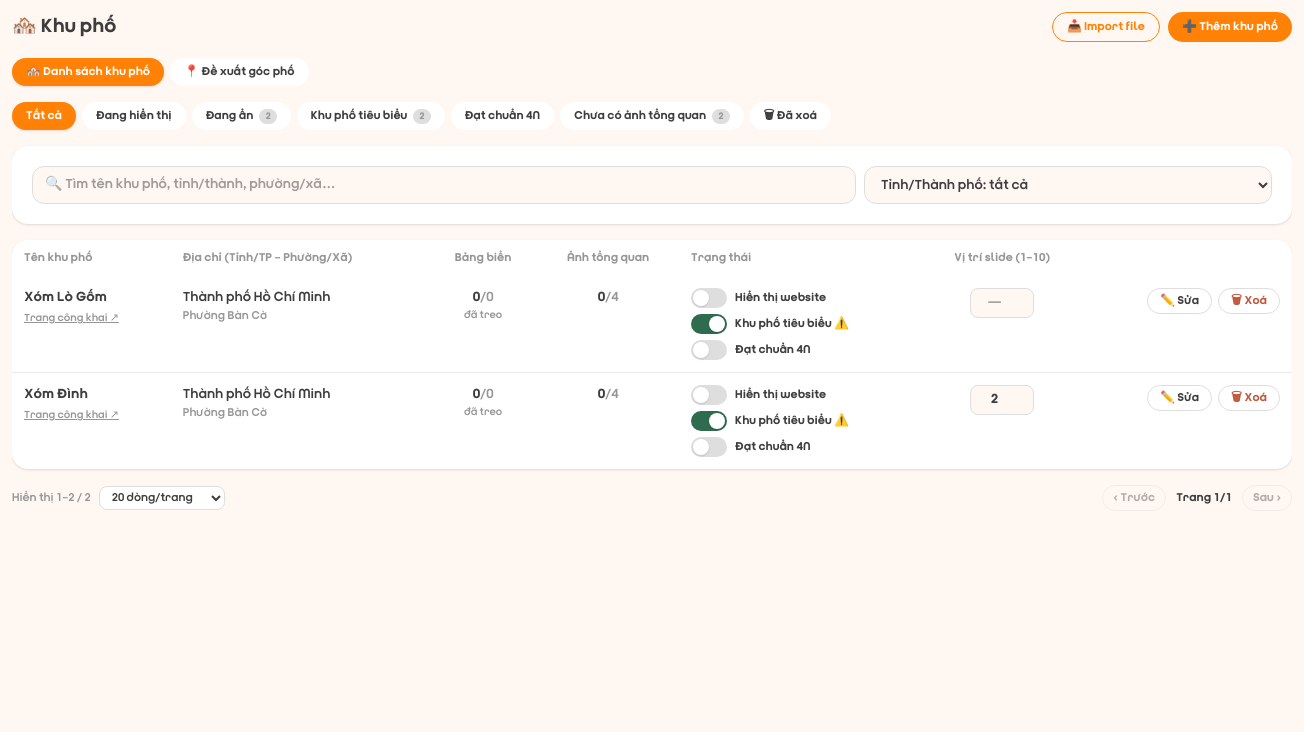
Test case: /admin/khu-pho — vị trí slide 1..10 › thông báo xếp slot — đẩy ra (khu vừa xếp chưa có slot)
The width and height of the screenshot is (1304, 732).
Expected: the text "Xóm Lò Gốm" is shown, [24, 290, 107, 305]
Type "2" into the number field with placeholder "—".
click(1002, 303); type("2")  # box [970, 288, 1034, 318]
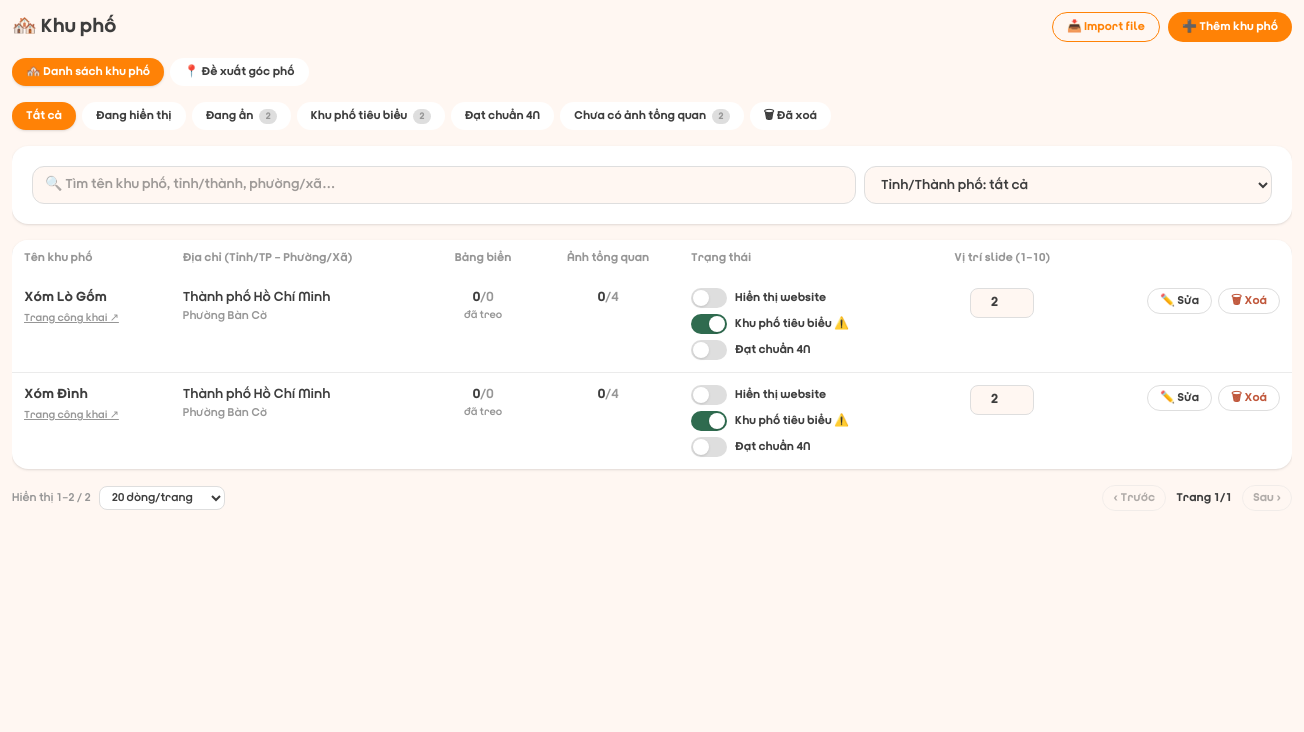
Leave the number field in the row of "Xóm Lò Gốm", box [970, 288, 1034, 318]
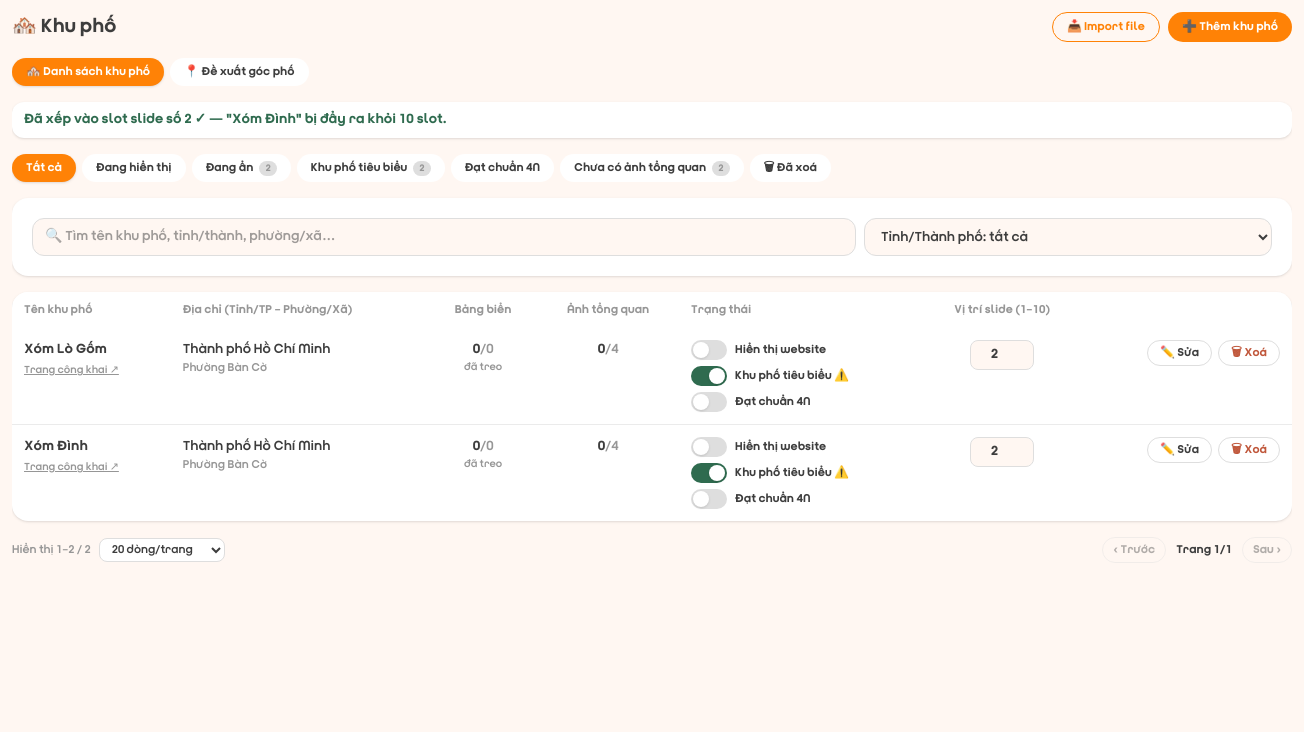
Expected: the text "Đã xếp vào slot slide số 2 ✓ — \"Xóm Đình\" bị đẩy ra khỏi 10 slot." is shown, [12, 102, 1292, 138]
